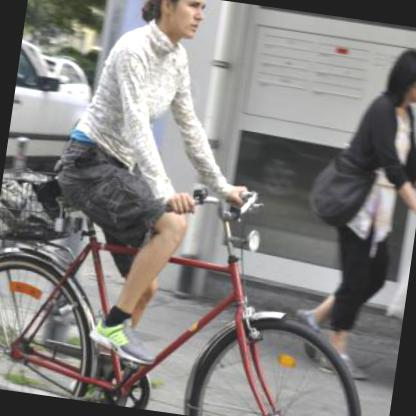car: (0, 28, 112, 216), (34, 58, 96, 104)
